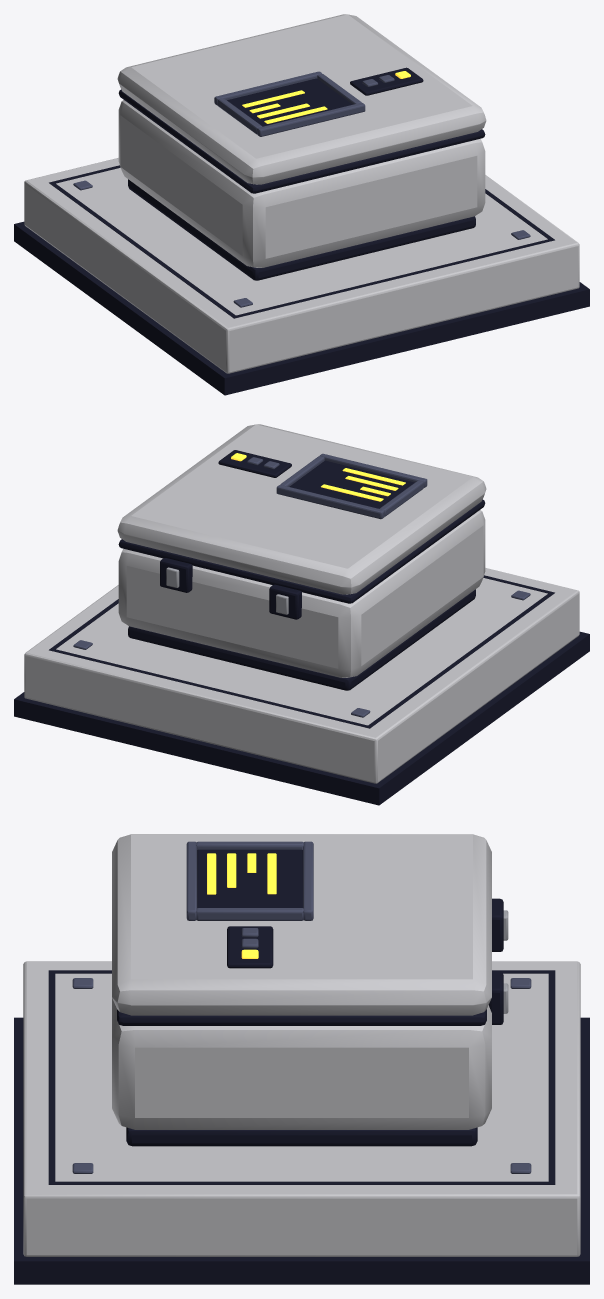
Rendered from roof.square.box.glb.
3 renders of one model, top to bottom at view 1: azimuth 30°, elevation 25°; view 2: azimuth 150°, elevation 25°; view 3: azimuth 270°, elevation 25°, orthographic. The views are drawn at different scales.
Visible parts, largest first — view 1: GEO-roof.square.box; view 2: GEO-roof.square.box; view 3: GEO-roof.square.box.
Boxes of the visible parts, x1=… form: GEO-roof.square.box: x1=14, y1=14, x2=589, y2=395; GEO-roof.square.box: x1=14, y1=424, x2=589, y2=805; GEO-roof.square.box: x1=14, y1=834, x2=589, y2=1284.
Bounding box in the file's own units: 1 × 0.51 × 1.
